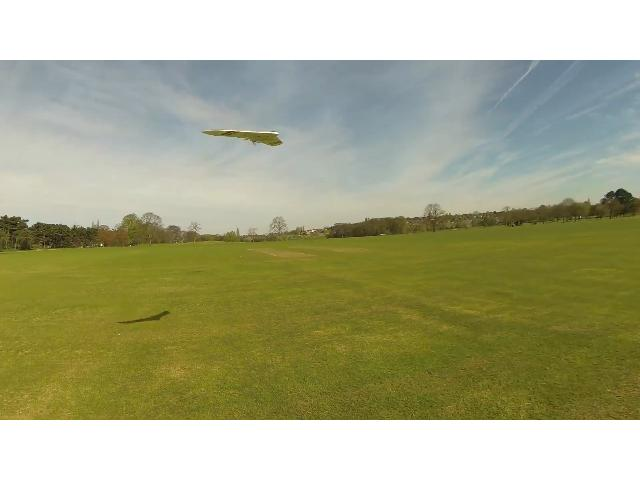Anti-Drone: (198, 113, 292, 160)
